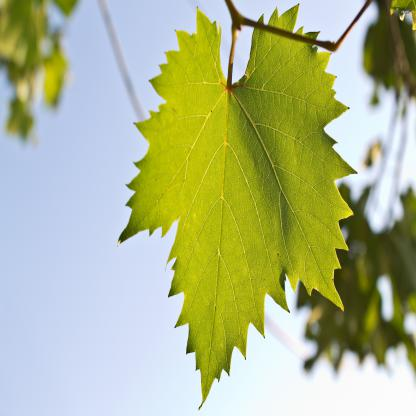grape leaf: (101, 6, 354, 405)
